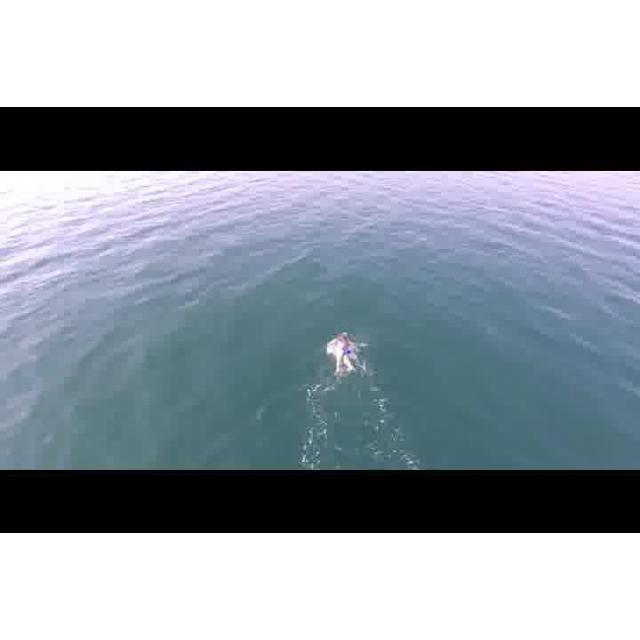human: (327, 333, 367, 377)
